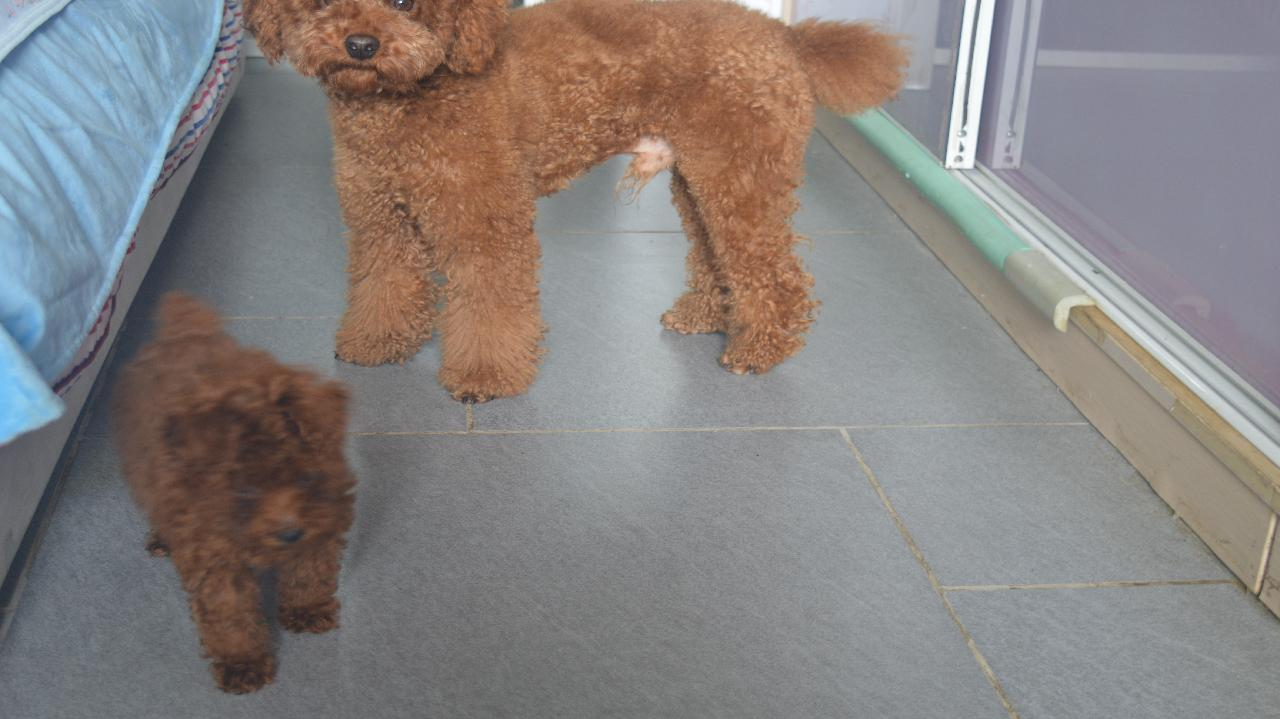coin: (104, 294, 377, 703)
zhuangzhuang: (240, 3, 917, 402)
